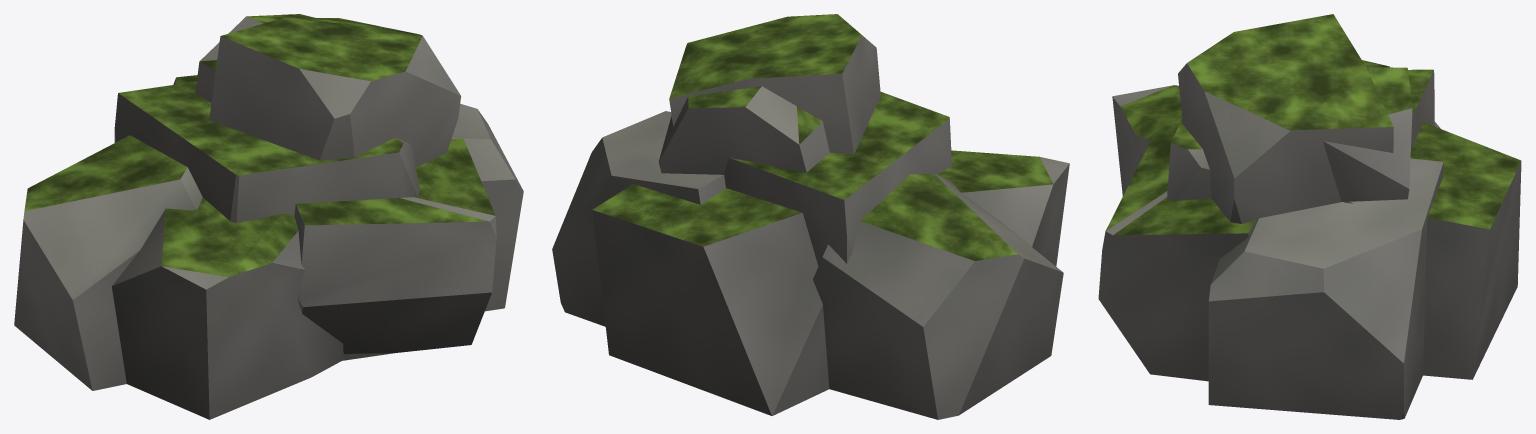
File: Cracked_rock_04.lod2.glb
3 views of the same model, side by side, from view 1: azimuth 30°, elevation 25°; view 2: azimuth 150°, elevation 25°; view 3: azimuth 270°, elevation 25° (orthographic). The views are drawn at different scales.
Visible parts, largest first — view 1: Rock; view 2: Rock; view 3: Rock.
Boxes of the visible parts, bbox=[...] form: Rock: bbox=[14, 14, 523, 419]; Rock: bbox=[552, 14, 1069, 419]; Rock: bbox=[1098, 14, 1521, 419].
Size of the model in its own units: 3.51 by 2.07 by 2.81.
2 materials, 2 textured.
